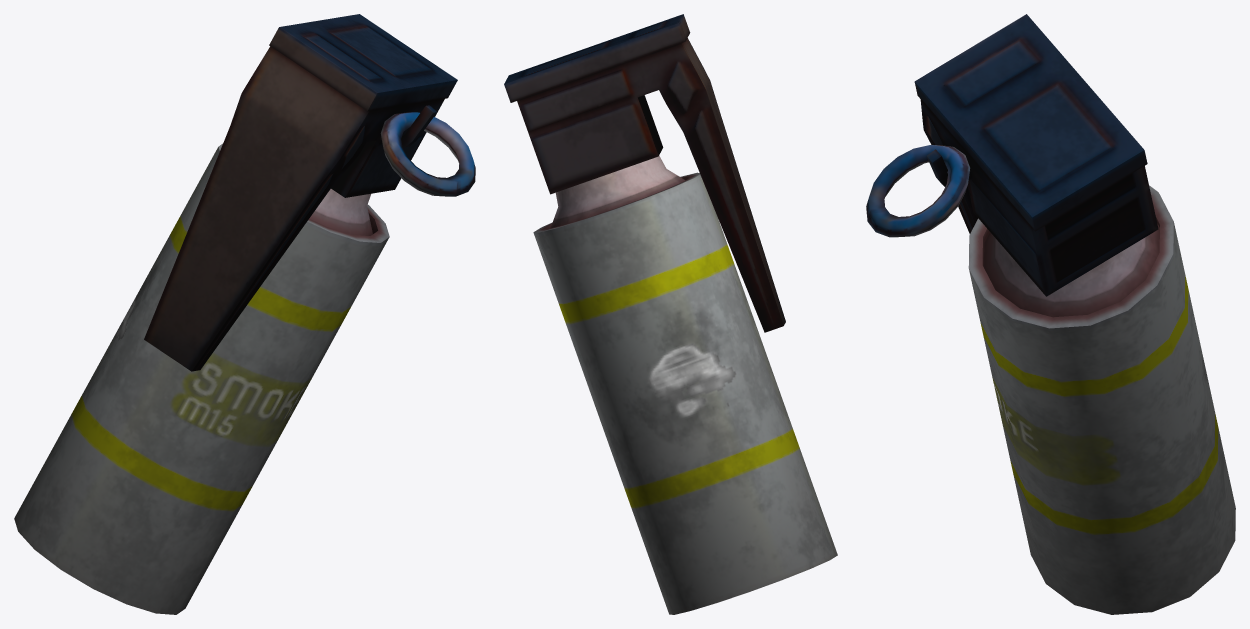
The model's file is smoke.glb.
3 renders of one model, left to right at view 1: azimuth 30°, elevation 25°; view 2: azimuth 150°, elevation 25°; view 3: azimuth 270°, elevation 25°, orthographic. The views are drawn at different scales.
Parts seen in each view (by area): view 1: smoke_low_2, smokehaut_low_1, incendiaryrond_low_0; view 2: smoke_low_2, smokehaut_low_1; view 3: smoke_low_2, smokehaut_low_1, incendiaryrond_low_0.
Part boxes in pixels (box(x1,y1,x2,y2)): smoke_low_2: box(14, 143, 389, 614); smokehaut_low_1: box(144, 14, 457, 371); incendiaryrond_low_0: box(380, 112, 475, 196); smoke_low_2: box(533, 155, 837, 614); smokehaut_low_1: box(504, 14, 785, 332); smoke_low_2: box(968, 185, 1235, 614); smokehaut_low_1: box(914, 14, 1158, 296); incendiaryrond_low_0: box(866, 145, 970, 237).
Bounding box in the file's own units: 0.1195 × 0.1726 × 0.0915.
1 material, 1 textured.
